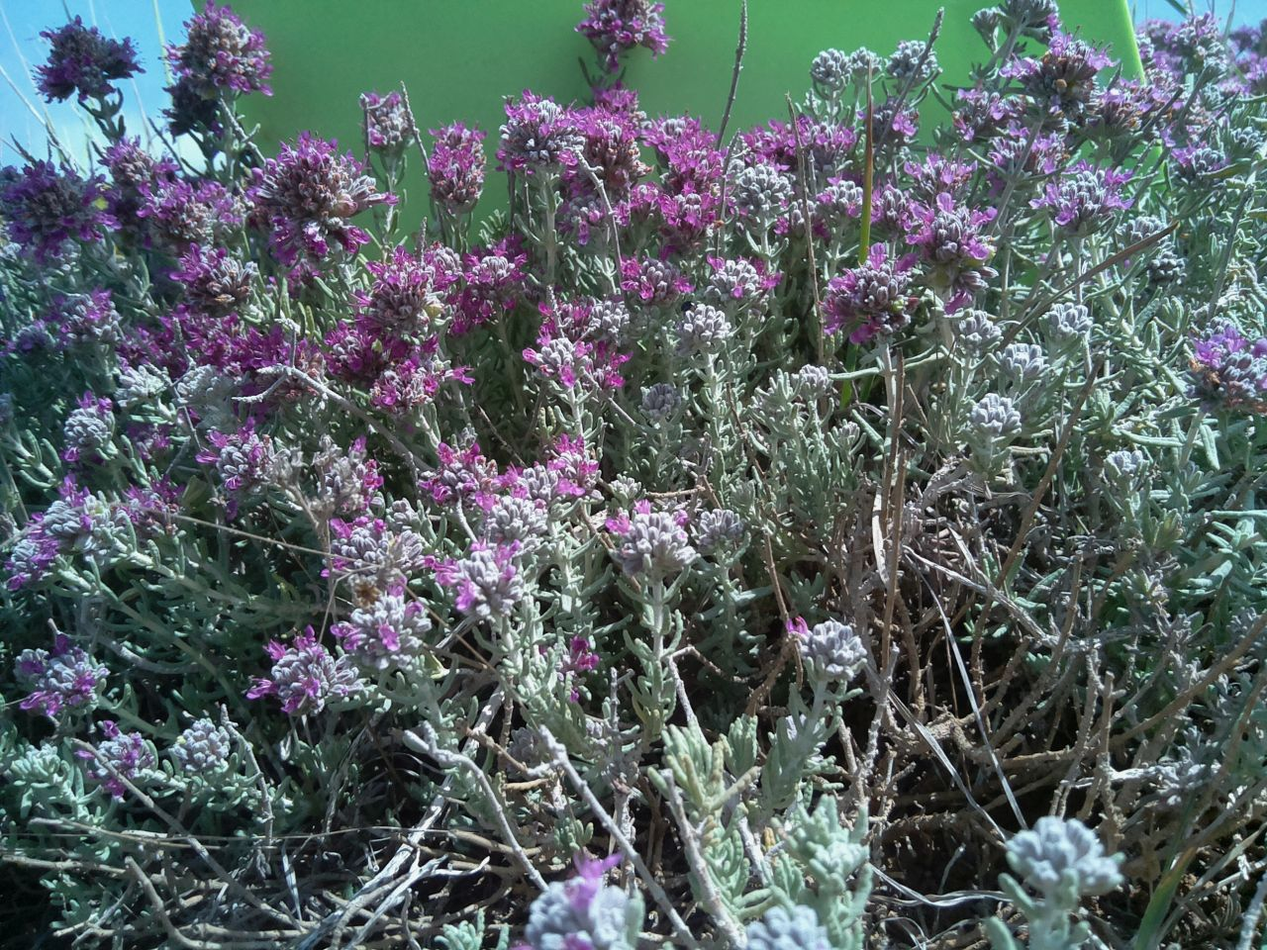Beetle: (671, 294, 703, 317)
